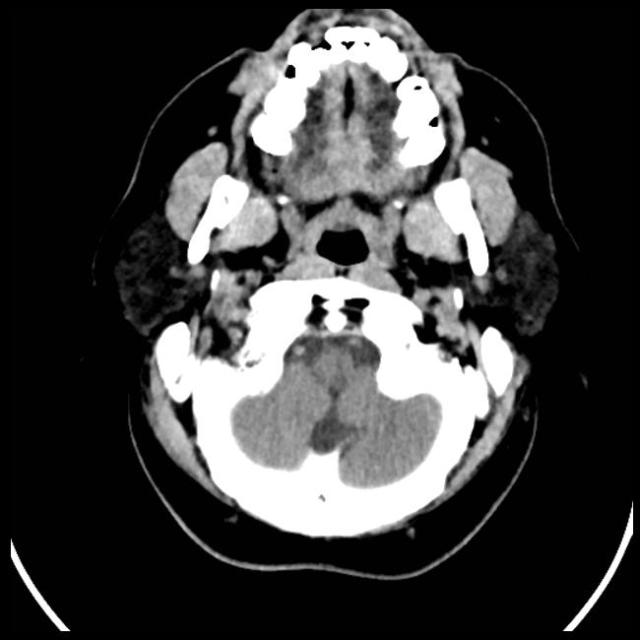lesion: (109, 6, 571, 550)
